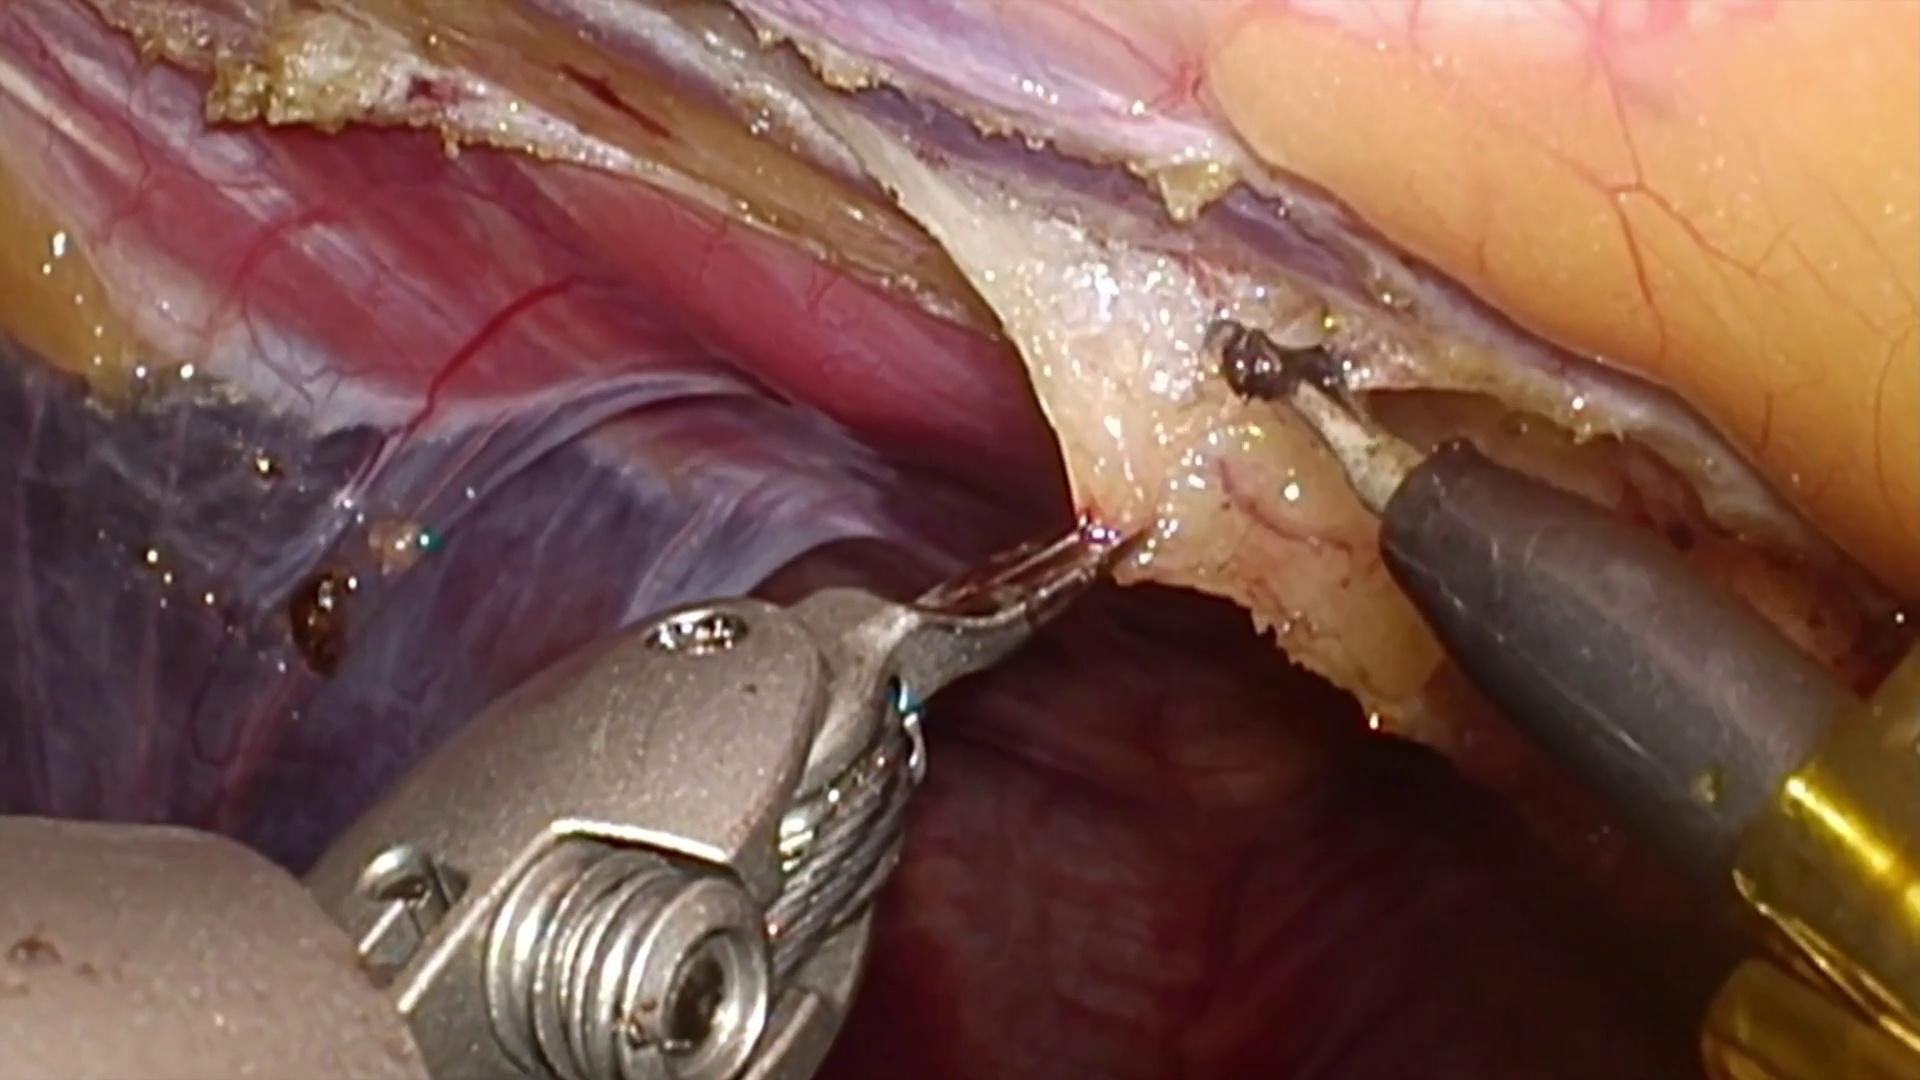Cautery_Spatula: (1222, 328, 1867, 899)
Debakey: (790, 483, 1163, 725)
